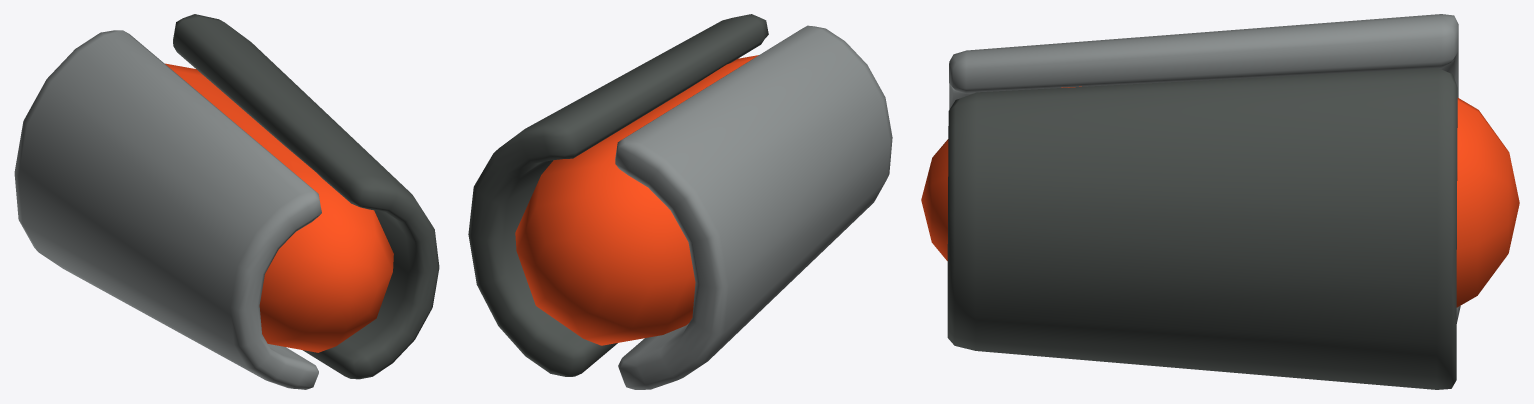
Rendered from xsens_RightFirstPP.dae.
The picture shows the model from 3 angles, left to right: view 1: azimuth 30°, elevation 25°; view 2: azimuth 150°, elevation 25°; view 3: azimuth 270°, elevation 25°; orthographic projection. The views are drawn at different scales.
Parts seen in each view (by area): view 1: RightFirstPP; view 2: RightFirstPP; view 3: RightFirstPP.
Part boxes in pixels (x1,y1,x2,y2): RightFirstPP: (14, 14, 439, 389); RightFirstPP: (468, 14, 892, 389); RightFirstPP: (921, 14, 1519, 389).
Bounding box in the file's own units: 0.0218 × 0.0345 × 0.0204.
